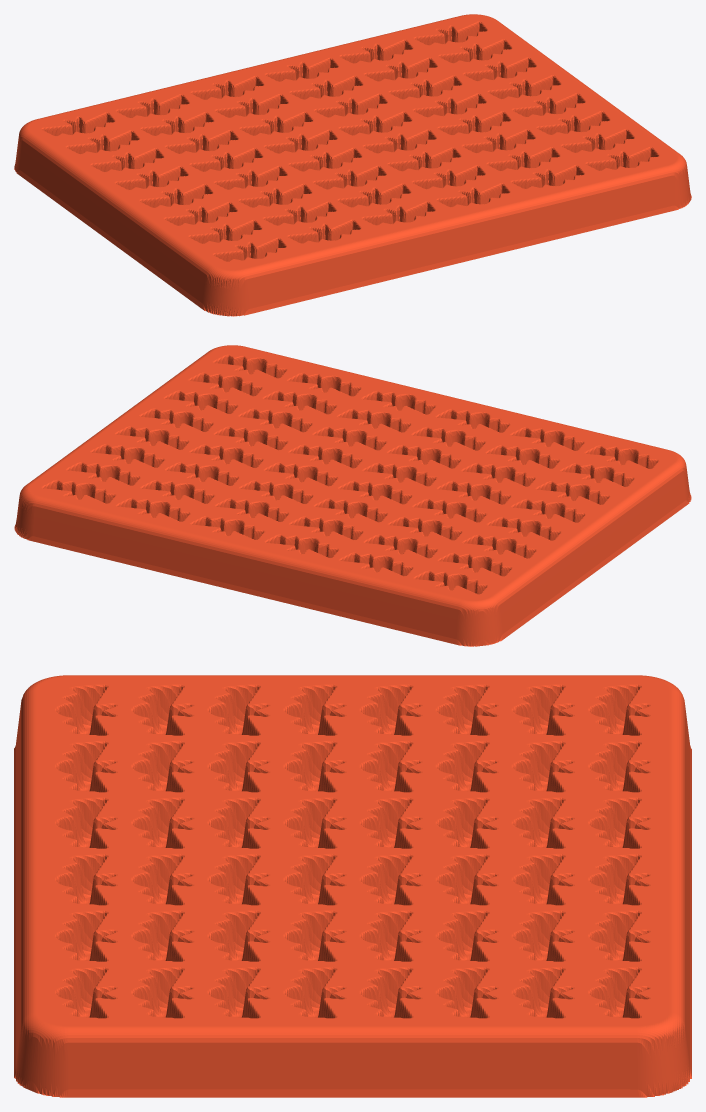
Rendered from mold.glb.
The picture shows the model from 3 angles, top to bottom: view 1: azimuth 30°, elevation 25°; view 2: azimuth 150°, elevation 25°; view 3: azimuth 270°, elevation 25°; orthographic projection. The views are drawn at different scales.
Visible parts, largest first — view 1: geometry_0; view 2: geometry_0; view 3: geometry_0.
Boxes of the visible parts, bbox=[...] form: geometry_0: bbox=[14, 14, 691, 316]; geometry_0: bbox=[14, 345, 691, 646]; geometry_0: bbox=[14, 675, 691, 1097].
Size of the model in its own units: 0.1443 by 0.0114 by 0.1123.
